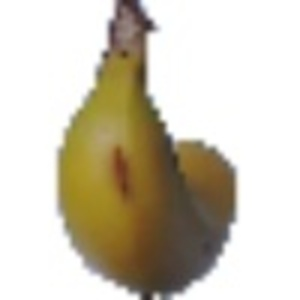banana: (47, 4, 245, 291)
